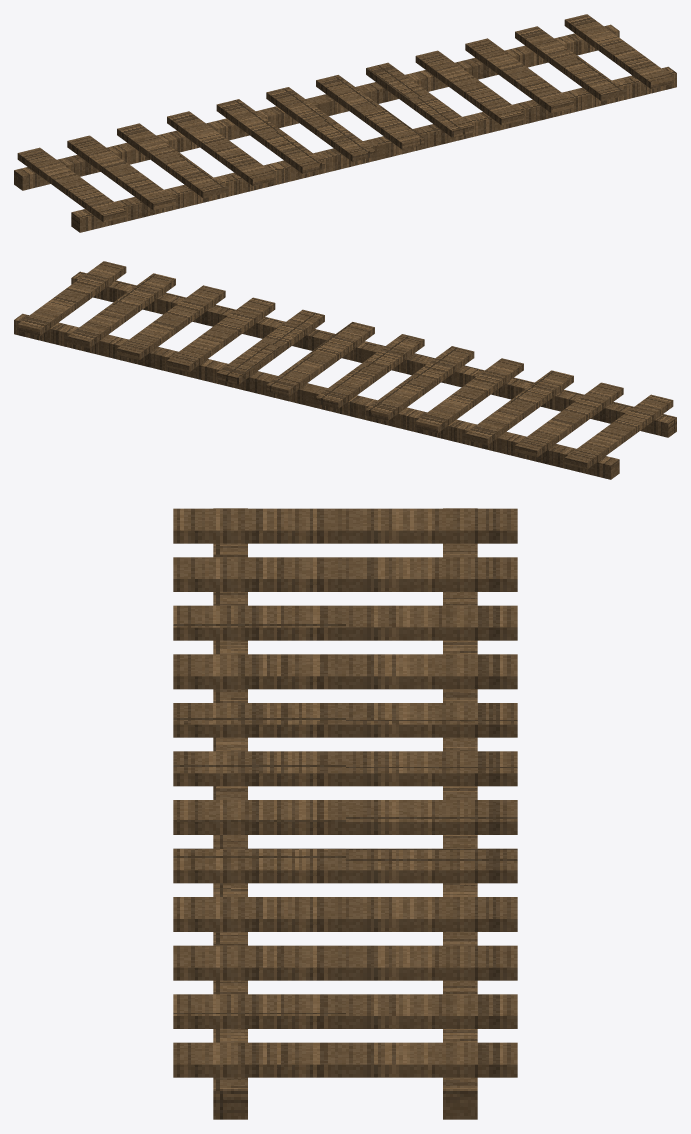
File: fb_duckboard.glb
3 renders of one model, top to bottom at view 1: azimuth 30°, elevation 25°; view 2: azimuth 150°, elevation 25°; view 3: azimuth 270°, elevation 25°, orthographic. The views are drawn at different scales.
Parts seen in each view (by area): view 1: fb_duckboard; view 2: fb_duckboard; view 3: fb_duckboard.
Boxes of the visible parts, x1,y1,x2,y2 form: fb_duckboard: (14, 14, 676, 232); fb_duckboard: (14, 261, 676, 479); fb_duckboard: (173, 508, 517, 1119).
Size of what is drawn, in the model's own units: 2.4 by 0.08 by 0.6.
1 material, 1 textured.
